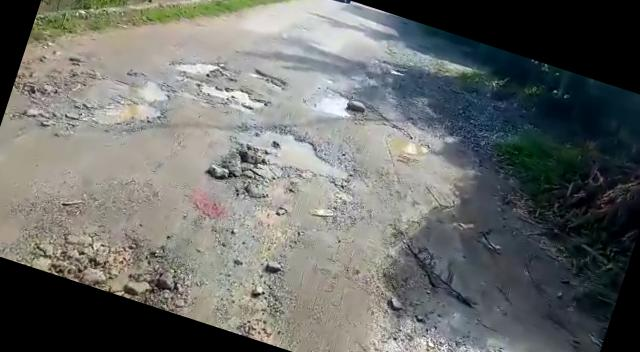pothole: (56, 58, 175, 151), (228, 114, 360, 188), (350, 312, 586, 352), (200, 78, 269, 114), (306, 85, 362, 124), (379, 124, 436, 162), (170, 50, 222, 84), (245, 66, 291, 92)
